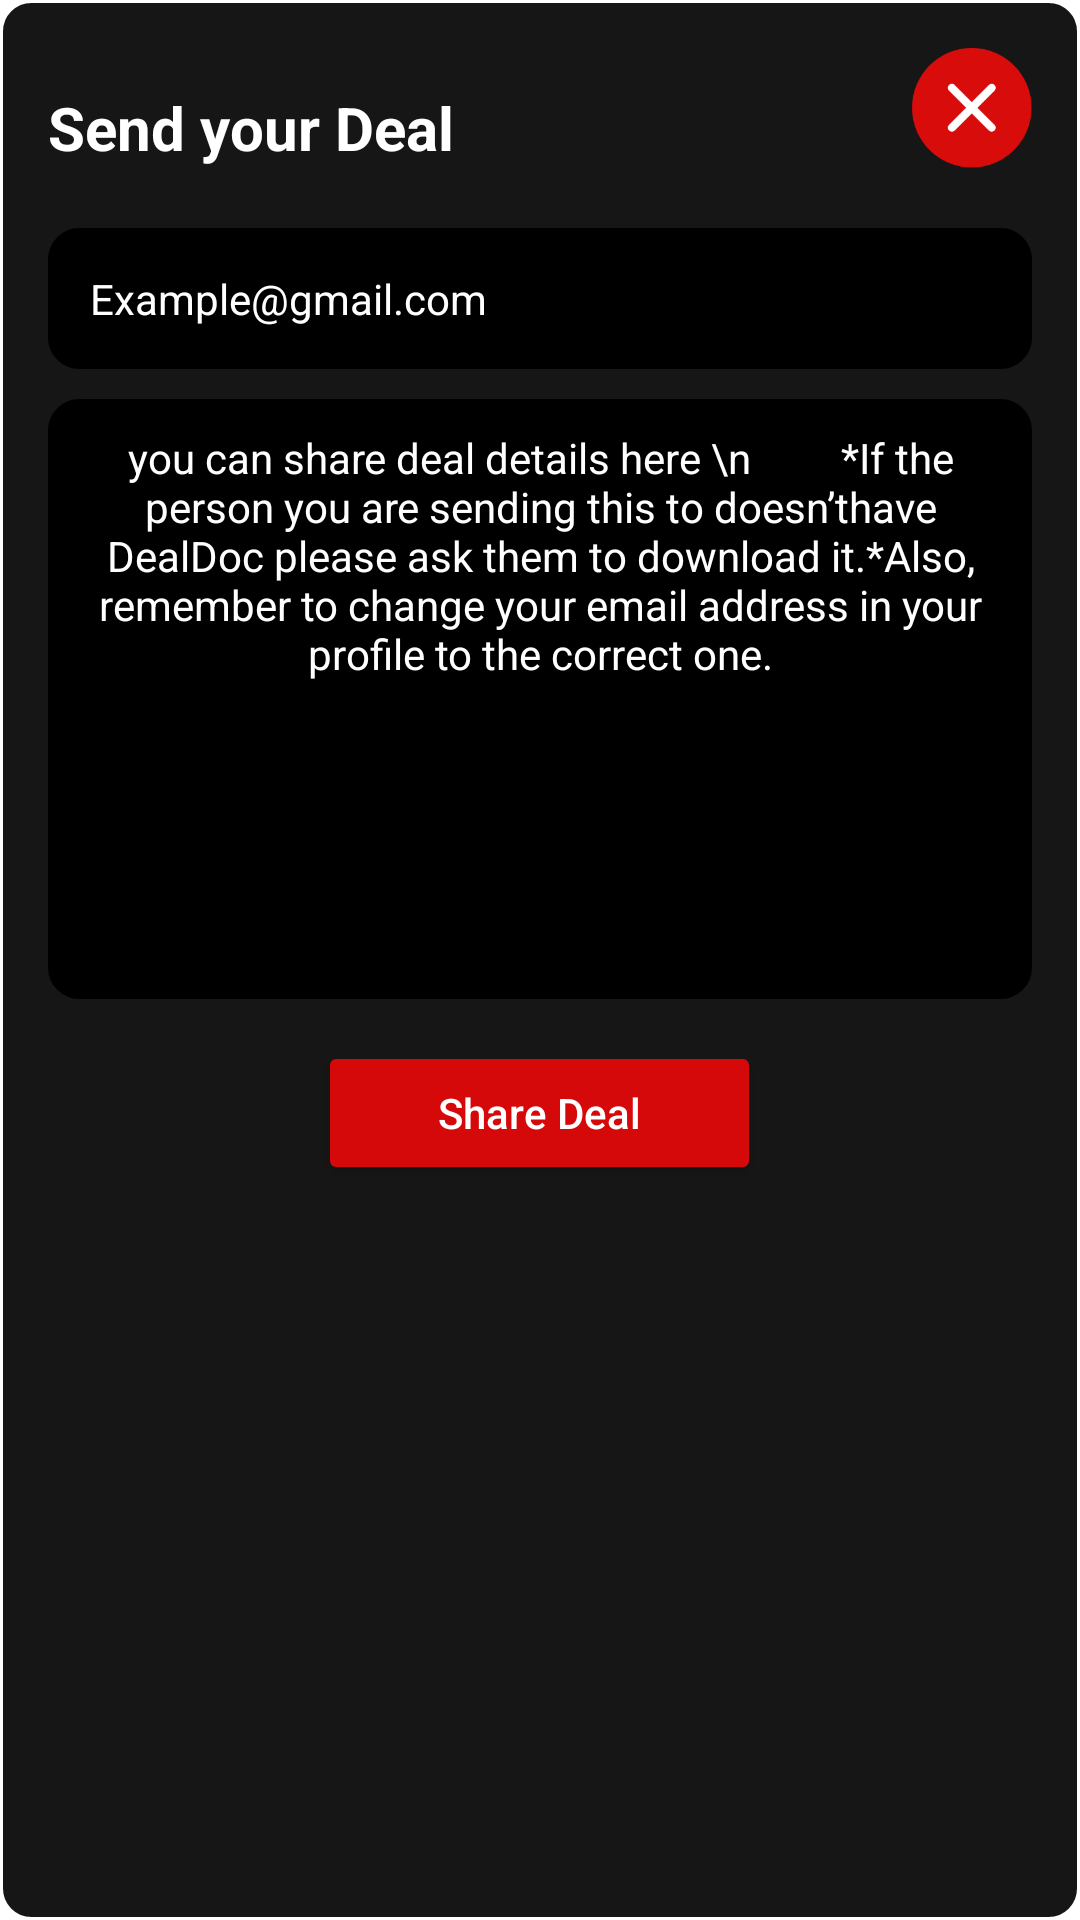

Icons on this 1080×1920 Android screen, each with its box as (x1, y1, x2, y2):
cancel: (912, 48, 1032, 168)
